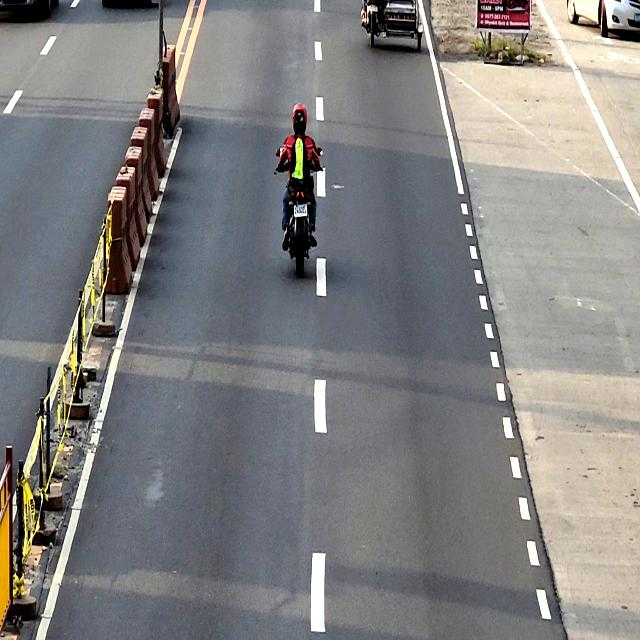Car: (566, 0, 640, 39)
License-Plate: (294, 204, 308, 218), (369, 4, 378, 13)
Motorcycle: (276, 146, 322, 276)
Tricycle: (363, 0, 422, 50)
